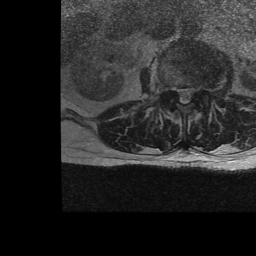CCS_normal: (181, 82, 188, 110)
LFS_stenosis: (194, 81, 201, 103)
LLS_stenosis: (188, 83, 194, 103)
RFS_stenosis: (169, 81, 176, 103)
RLS_stenosis: (176, 82, 181, 103)
